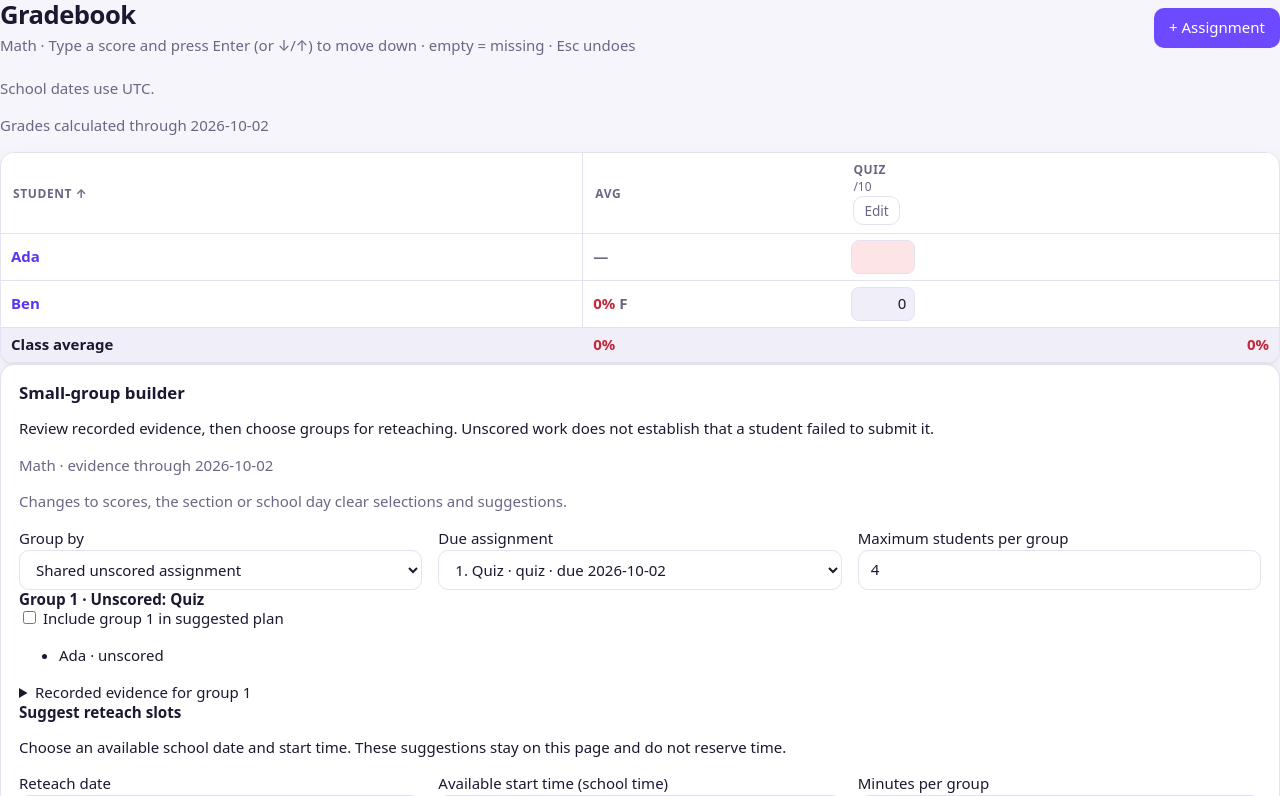
Scenario: opening and cancelling an assignment edit dialog clears a reviewed plan
Click the checkbox labelled "Include group 1 in suggested plan" at point(30, 618), box [23, 611, 36, 624]
(page scrolled)
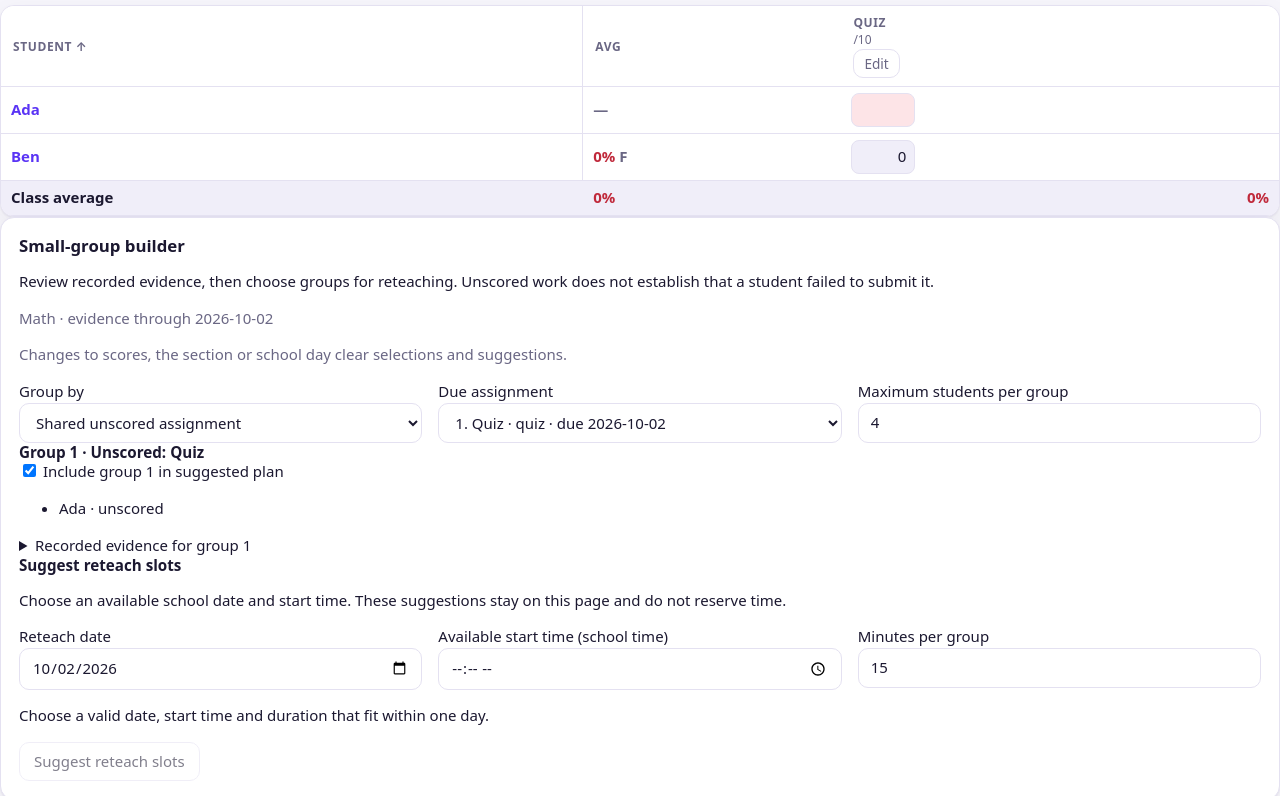
Type "09:00" into the time field labelled "Available start time (school time)" at point(640, 669), box [438, 648, 842, 690]
(page scrolled)
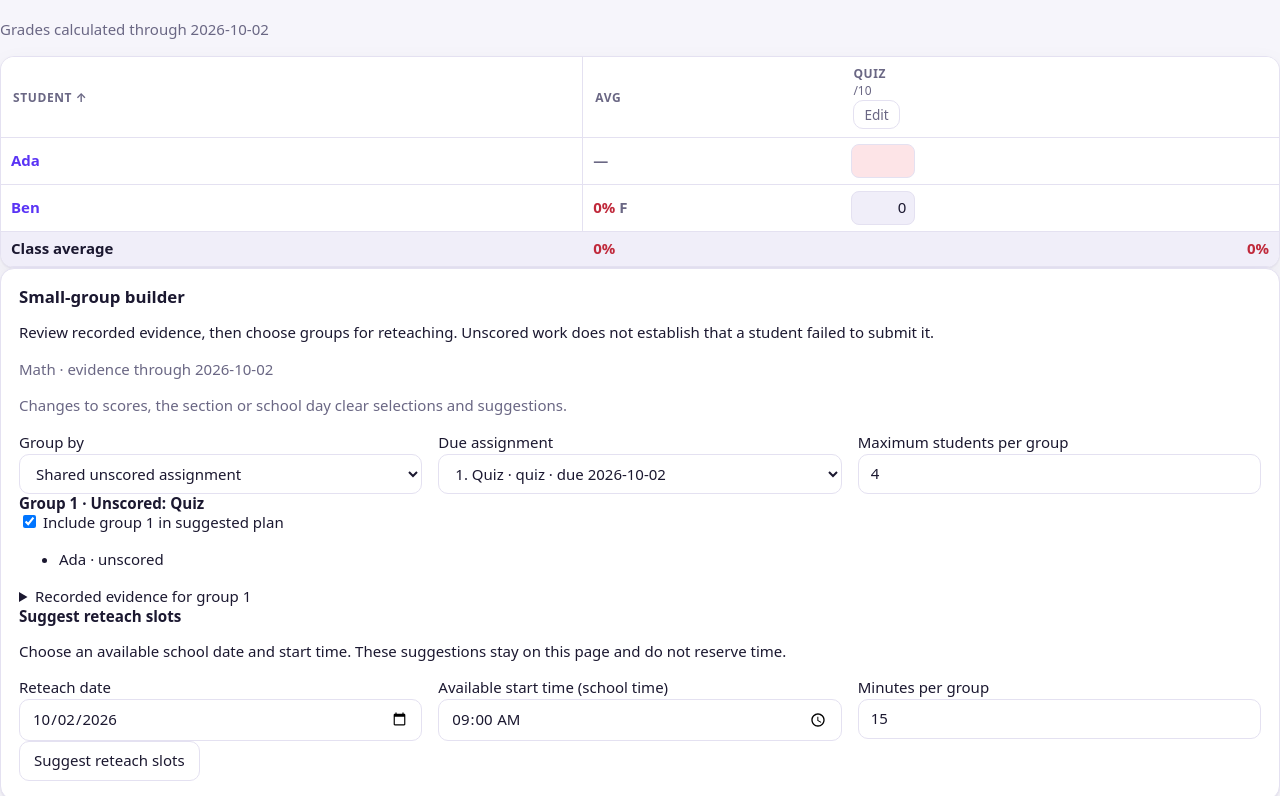
Click the button "Suggest reteach slots" at point(109, 761), box [19, 741, 200, 781]
(page scrolled)
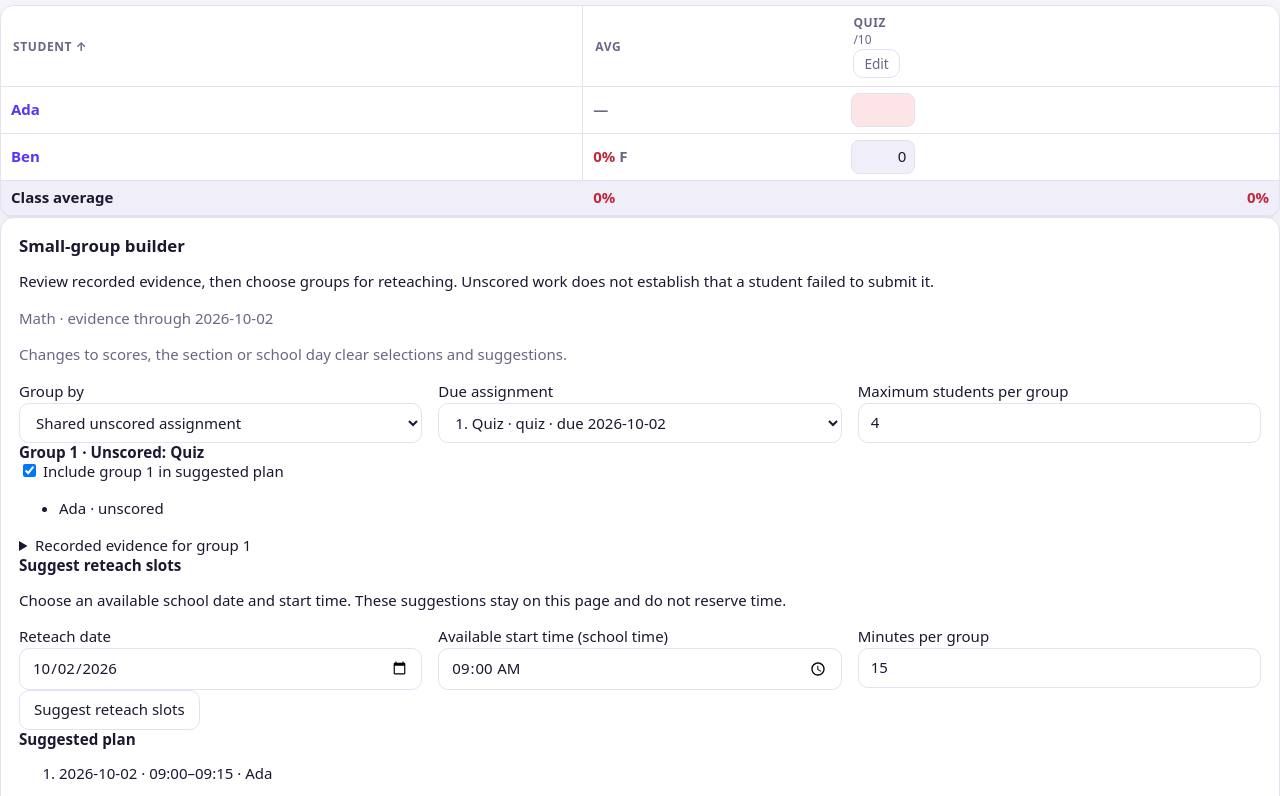
Click the button with aria-label "Edit Quiz" at point(877, 64), box [853, 49, 900, 78]
(page scrolled)
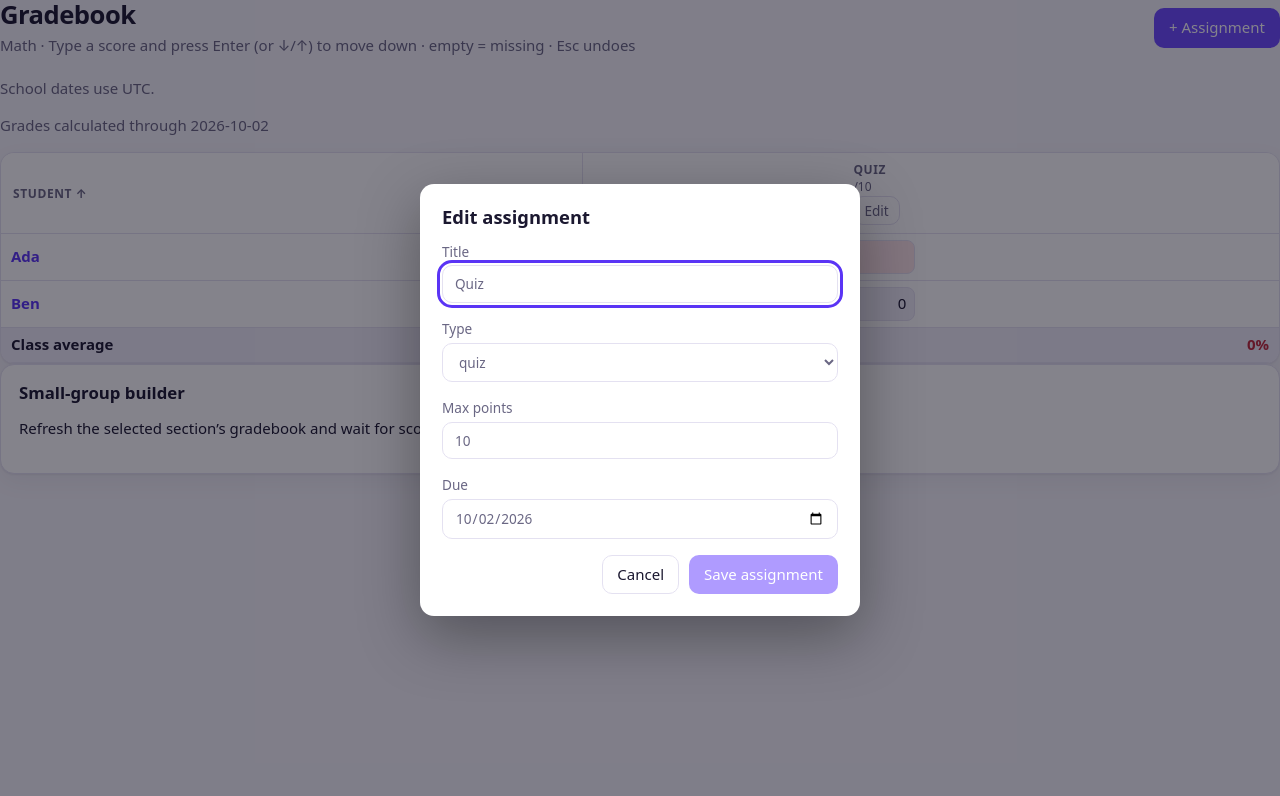
Expected: the checkbox is gone
Click the button "Cancel" at point(641, 574), box [602, 555, 679, 594]
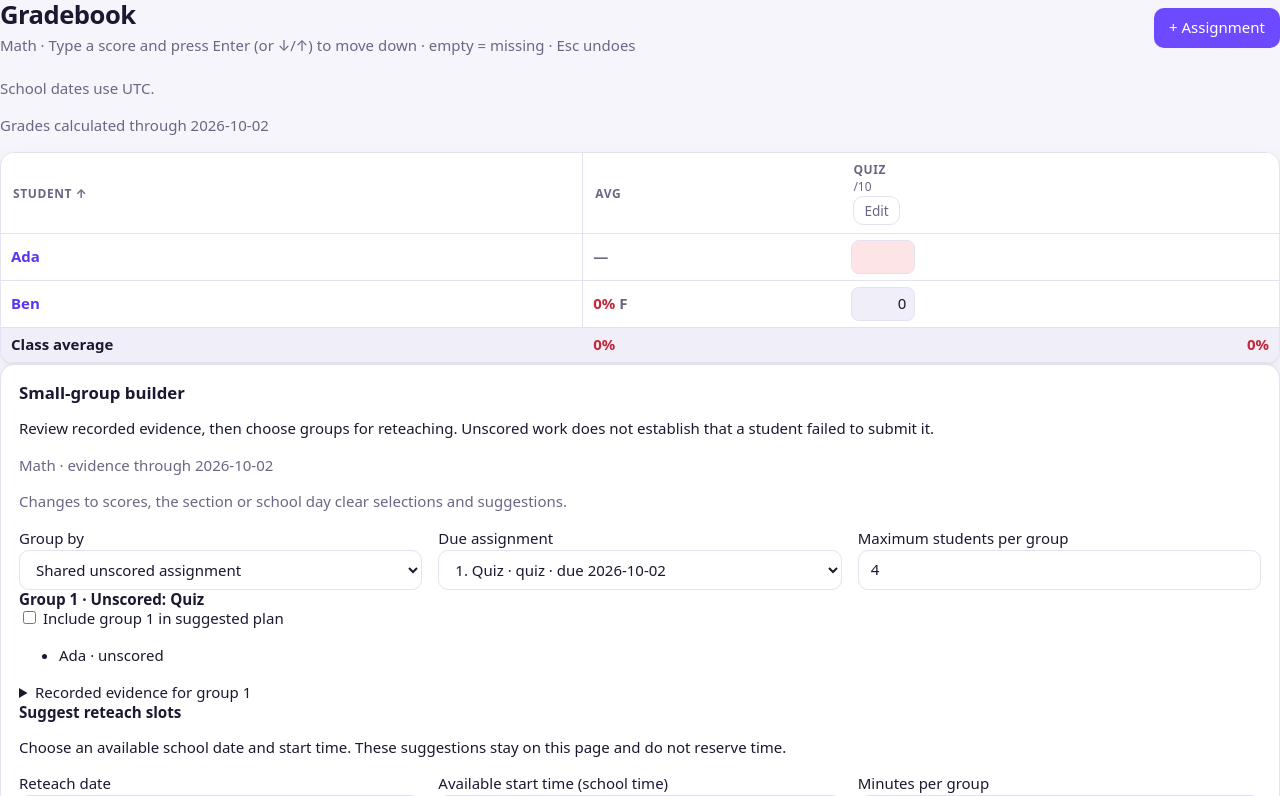
Expected: the checkbox is not checked, [23, 611, 36, 624]
